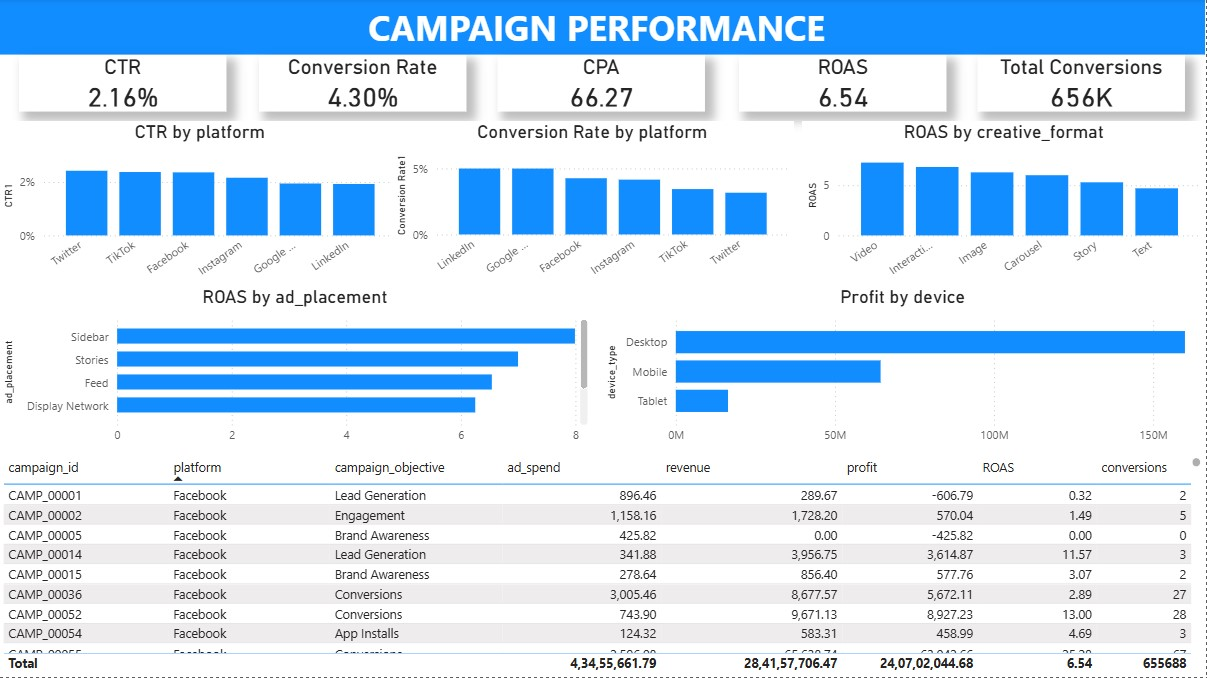

The page's visual inventory and layout, read from the dashboard file:
{"tool":"powerbi","page":{"name":"Campaign Performance","canvas":[1280,720],"ordinal":1},"visuals":[{"type":"textbox","box":[0,0,1280,60],"z":0},{"type":"card","title":"CTR","fields":{"Values":["tech_advertising_campaigns_dataset.CTR1"]},"box":[22,60,220,60],"z":1},{"type":"card","title":"Conversion Rate","fields":{"Values":["tech_advertising_campaigns_dataset.Conversion Rate1"]},"box":[276,60,220,60],"z":2},{"type":"card","title":"CPA","fields":{"Values":["tech_advertising_campaigns_dataset.CPA1"]},"box":[530,60,220,60],"z":3},{"type":"card","title":"ROAS","fields":{"Values":["tech_advertising_campaigns_dataset.ROAS"]},"box":[786,60,220,60],"z":4},{"type":"card","title":"Total Conversions","fields":{"Values":["tech_advertising_campaigns_dataset.Total Conversions"]},"box":[1038,60,220,60],"z":5},{"type":"clusteredColumnChart","title":"CTR by platform","fields":{"Category":["tech_advertising_campaigns_dataset.platform"],"Y":["tech_advertising_campaigns_dataset.CTR1"]},"box":[0,130,428,176],"z":6},{"type":"clusteredColumnChart","title":"Conversion Rate by platform","fields":{"Category":["tech_advertising_campaigns_dataset.platform"],"Y":["tech_advertising_campaigns_dataset.Conversion Rate1"]},"box":[416,130,427,175],"z":7},{"type":"clusteredColumnChart","fields":{"Category":["tech_advertising_campaigns_dataset.creative_format"],"Y":["tech_advertising_campaigns_dataset.ROAS"]},"box":[852,130,428,176],"z":8},{"type":"barChart","fields":{"Category":["tech_advertising_campaigns_dataset.ad_placement"],"Y":["tech_advertising_campaigns_dataset.ROAS"]},"box":[0,306,630,176],"z":9},{"type":"clusteredBarChart","title":"Profit by device","fields":{"Category":["tech_advertising_campaigns_dataset.device_type"],"Y":["tech_advertising_campaigns_dataset.Total Profit"]},"box":[640,306,640,176],"z":10},{"type":"tableEx","fields":{"Values":["tech_advertising_campaigns_dataset.campaign_id","tech_advertising_campaigns_dataset.platform","tech_advertising_campaigns_dataset.campaign_objective","Sum(tech_advertising_campaigns_dataset.ad_spend)","Sum(tech_advertising_campaigns_dataset.revenue)","Sum(tech_advertising_campaigns_dataset.profit)","tech_advertising_campaigns_dataset.ROAS","Sum(tech_advertising_campaigns_dataset.conversions)"]},"box":[0,482,1280,238],"z":11}]}

Visuals, with their boxes in screenshot pixels (x1, y1, x2, y2), scaled from the page's 1280x720 canvas onto the 1207x678 screenshot:
textbox: (0, 0, 1206, 56)
"CTR" card: (21, 56, 228, 113)
"Conversion Rate" card: (260, 56, 468, 113)
"CPA" card: (500, 56, 707, 113)
"ROAS" card: (741, 56, 949, 113)
"Total Conversions" card: (979, 56, 1186, 113)
"CTR by platform" clusteredColumnChart: (0, 122, 404, 288)
"Conversion Rate by platform" clusteredColumnChart: (392, 122, 795, 287)
clusteredColumnChart - tech_advertising_campaigns_dataset.creative_format x tech_advertising_campaigns_dataset.ROAS: (803, 122, 1206, 288)
barChart - tech_advertising_campaigns_dataset.ad_placement x tech_advertising_campaigns_dataset.ROAS: (0, 288, 594, 454)
"Profit by device" clusteredBarChart: (604, 288, 1206, 454)
tableEx - tech_advertising_campaigns_dataset.campaign_id x tech_advertising_campaigns_dataset.platform: (0, 454, 1206, 677)
